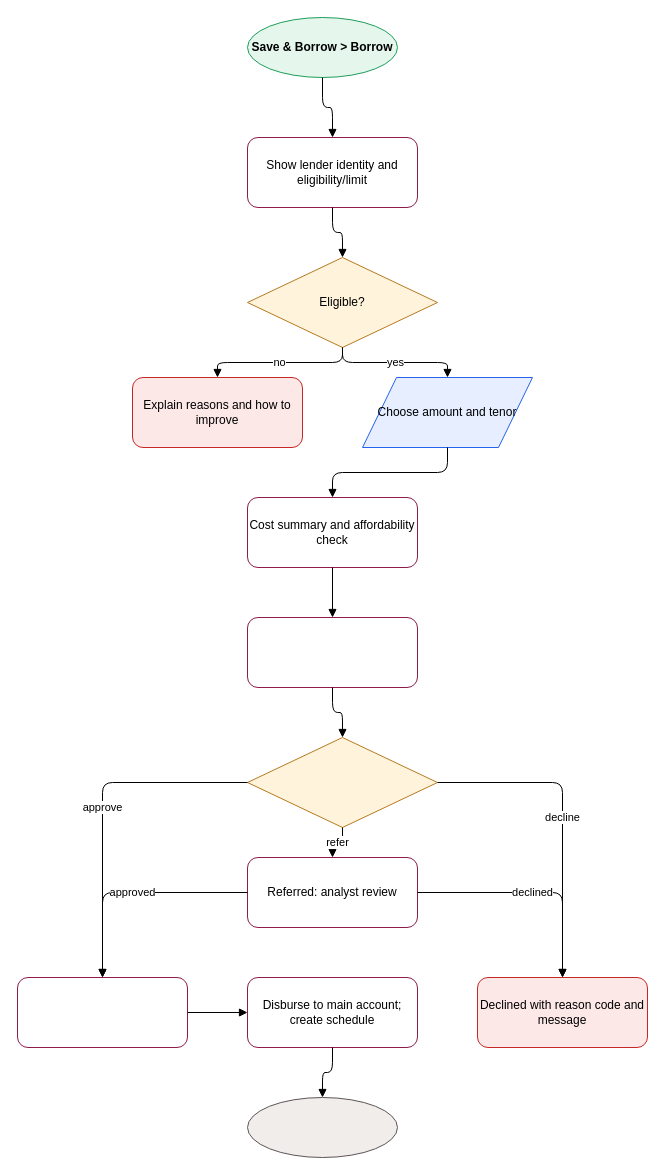
Image size: 665x1175. Some labels were removed from this diagram. Each missing label, with the centre of its shape:
Decision engine: [332,652]
Loan active: [322,1127]
Outcome: [342,782]
Show agreement and key facts; accept with PIN: [102,1012]
